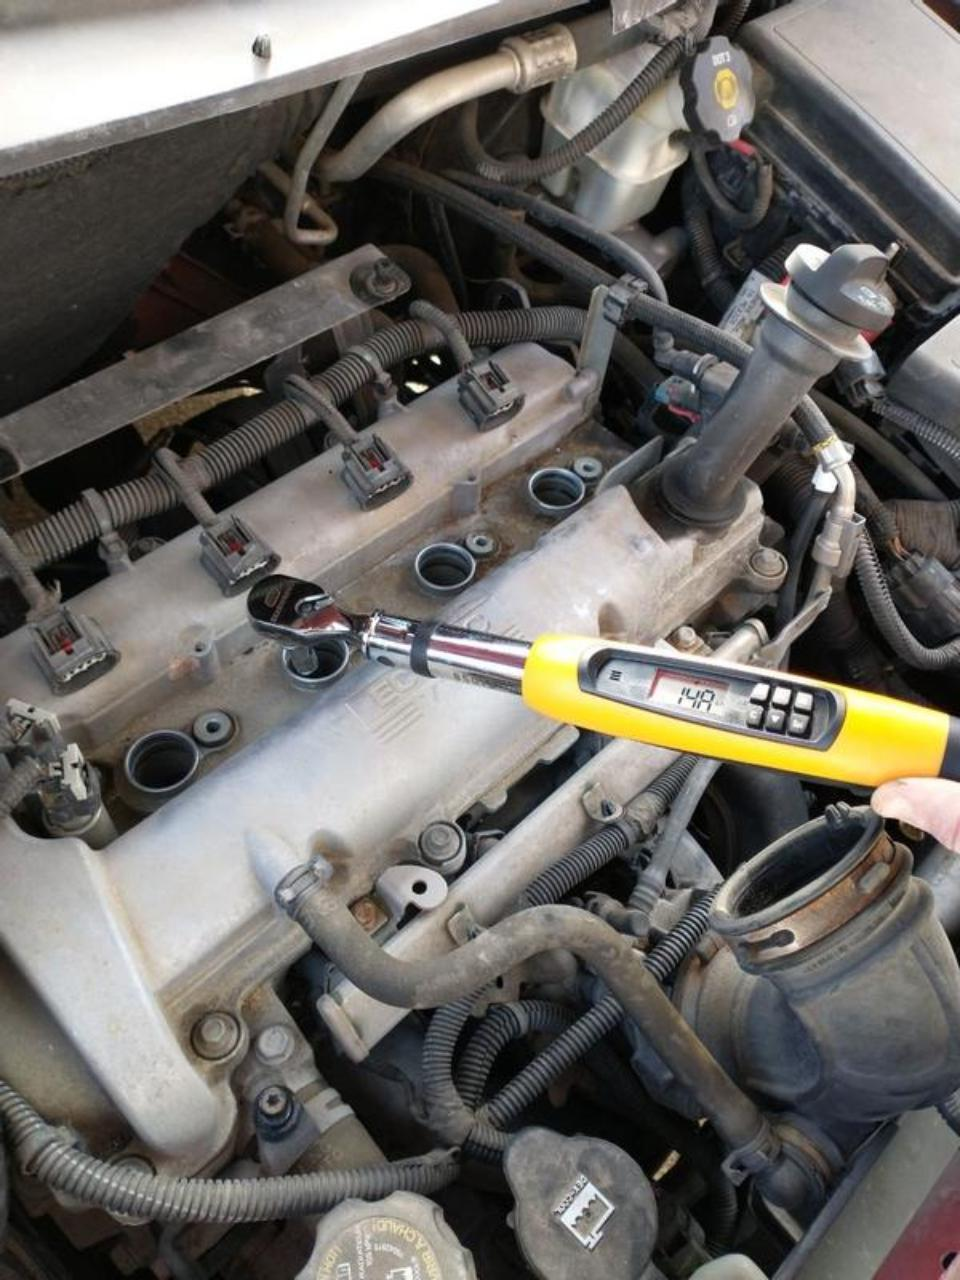Tool: (246, 574, 350, 638)
